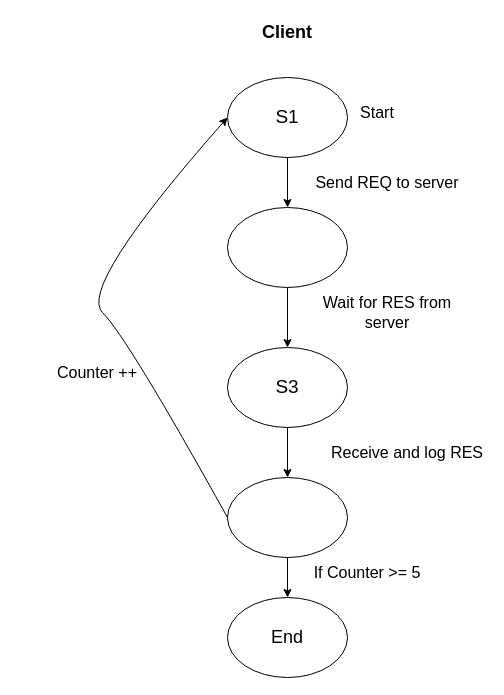
Image size: 504x695. Some labels were removed from this diagram. Each missing label, with the centre of its shape:
"S2" goes at (287,247).
"S4" goes at (287,517).
